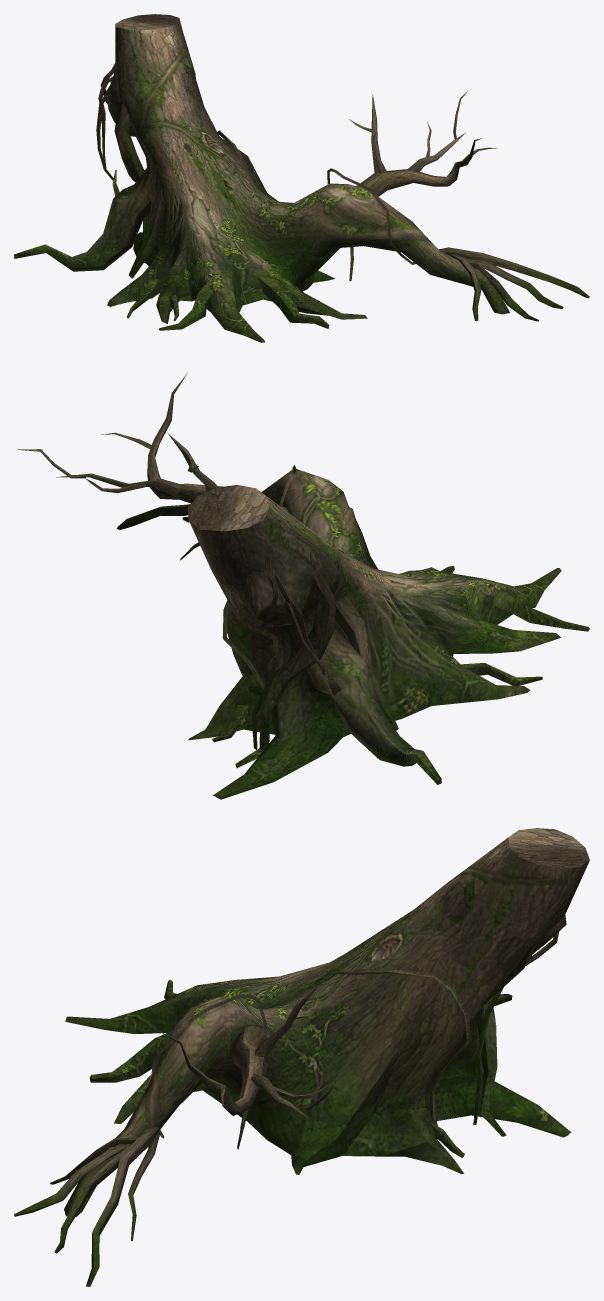
Rendered from zz_duanshu_2.FBX.
3 renders of one model, top to bottom at view 1: azimuth 30°, elevation 25°; view 2: azimuth 150°, elevation 25°; view 3: azimuth 270°, elevation 25°, orthographic. The views are drawn at different scales.
Parts seen in each view (by area): view 1: zz_duanshu_2; view 2: zz_duanshu_2; view 3: zz_duanshu_2.
Boxes of the visible parts, x1,y1,x2,y2 form: zz_duanshu_2: (14, 14, 589, 342); zz_duanshu_2: (17, 373, 589, 799); zz_duanshu_2: (14, 828, 589, 1286).
Bounding box in the file's own units: 1703 × 892 × 1582.
